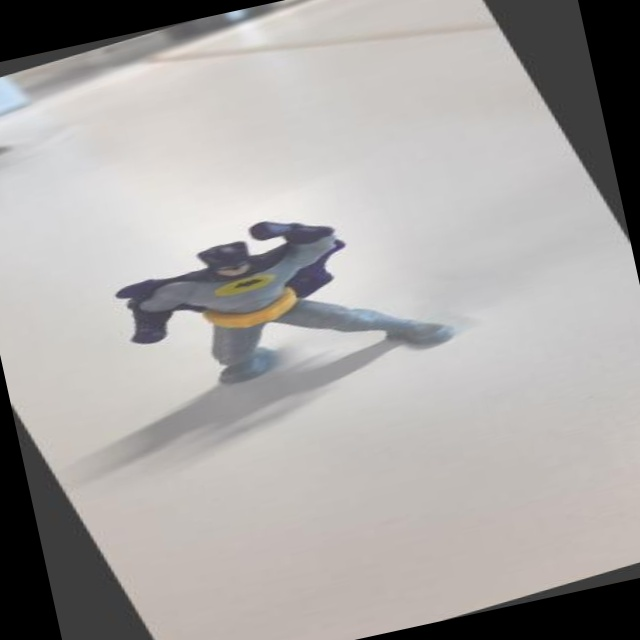Batman: (80, 171, 483, 443)
